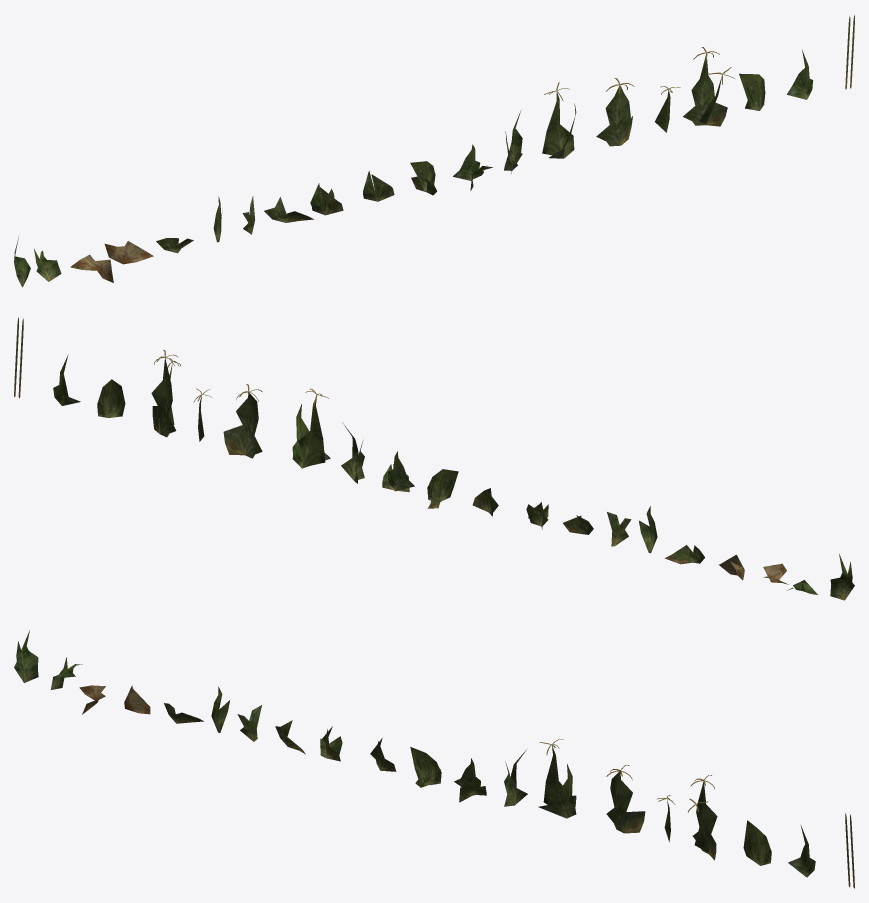
Rendered from grass_bermuda_01.glb.
3 views of the same model, one above another, from view 1: azimuth 30°, elevation 25°; view 2: azimuth 150°, elevation 25°; view 3: azimuth 330°, elevation 25° (orthographic).
Visible parts, largest first — view 1: grass_bermuda_01_seedling_d, grass_bermuda_01_seedling_b, grass_bermuda_01_seedling_a, grass_bermuda_01_medium_b, grass_bermuda_01_dead_b, grass_bermuda_01_medium_c, grass_bermuda_01_small_c, grass_bermuda_01_small_d, grass_bermuda_01_medium_e, grass_bermuda_01_dead_a, grass_bermuda_01_medium_d, grass_bermuda_01_medium_f; view 2: grass_bermuda_01_seedling_b, grass_bermuda_01_seedling_a, grass_bermuda_01_seedling_d, grass_bermuda_01_medium_b, grass_bermuda_01_medium_c, grass_bermuda_01_medium_e, grass_bermuda_01_medium_a, grass_bermuda_01_medium_f; view 3: grass_bermuda_01_seedling_a, grass_bermuda_01_seedling_b, grass_bermuda_01_seedling_d, grass_bermuda_01_medium_b, grass_bermuda_01_medium_c, grass_bermuda_01_medium_a, grass_bermuda_01_medium_e, grass_bermuda_01_medium_f, grass_bermuda_01_medium_d.
Part boxes in pixels (box(x1,y1,x2,y2)): grass_bermuda_01_seedling_d: box(683, 47, 734, 126); grass_bermuda_01_seedling_b: box(596, 78, 634, 146); grass_bermuda_01_seedling_a: box(542, 82, 576, 158); grass_bermuda_01_medium_b: box(739, 73, 765, 110); grass_bermuda_01_dead_b: box(104, 241, 153, 264); grass_bermuda_01_medium_c: box(410, 161, 436, 195); grass_bermuda_01_small_c: box(310, 183, 343, 215); grass_bermuda_01_small_d: box(363, 170, 394, 201); grass_bermuda_01_medium_e: box(453, 144, 492, 190); grass_bermuda_01_dead_a: box(70, 254, 113, 282); grass_bermuda_01_medium_d: box(787, 49, 813, 99); grass_bermuda_01_medium_f: box(504, 111, 522, 173); grass_bermuda_01_seedling_b: box(223, 384, 262, 458); grass_bermuda_01_seedling_a: box(292, 388, 330, 468); grass_bermuda_01_seedling_d: box(151, 350, 180, 437); grass_bermuda_01_medium_b: box(97, 379, 125, 417); grass_bermuda_01_medium_c: box(427, 469, 458, 508); grass_bermuda_01_medium_e: box(382, 451, 414, 492); grass_bermuda_01_medium_a: box(830, 553, 854, 600); grass_bermuda_01_medium_f: box(341, 422, 364, 483); grass_bermuda_01_seedling_a: box(538, 739, 576, 818); grass_bermuda_01_seedling_b: box(606, 765, 645, 833); grass_bermuda_01_seedling_d: box(688, 775, 717, 860); grass_bermuda_01_medium_b: box(743, 820, 771, 865); grass_bermuda_01_medium_c: box(410, 747, 441, 787); grass_bermuda_01_medium_a: box(14, 630, 38, 682); grass_bermuda_01_medium_e: box(454, 758, 486, 802); grass_bermuda_01_medium_f: box(504, 749, 527, 806); grass_bermuda_01_medium_d: box(788, 825, 815, 877).
Size of the model in its own units: 1.69 by 0.1583 by 0.1422.
1 material, 1 textured.
